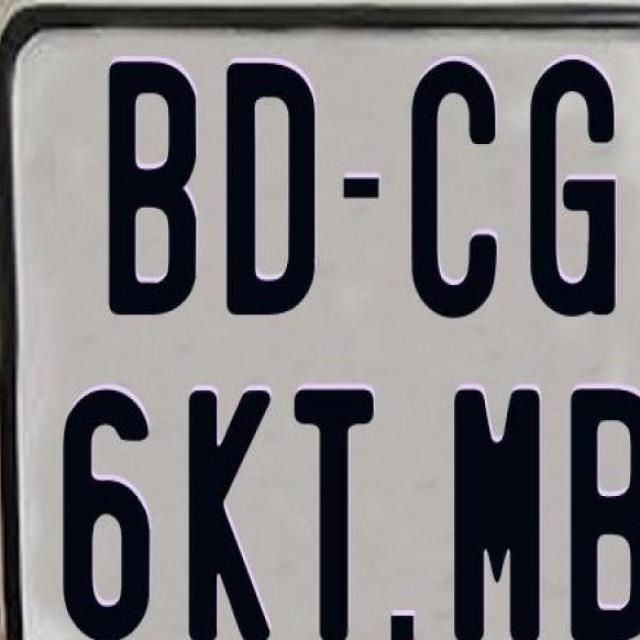license-plate: (2, 4, 640, 635)
